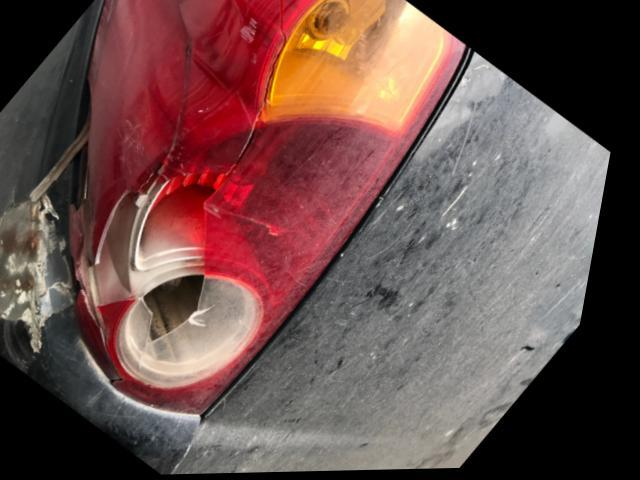lamp broken: (76, 0, 471, 416)
scratch: (0, 194, 84, 367)
